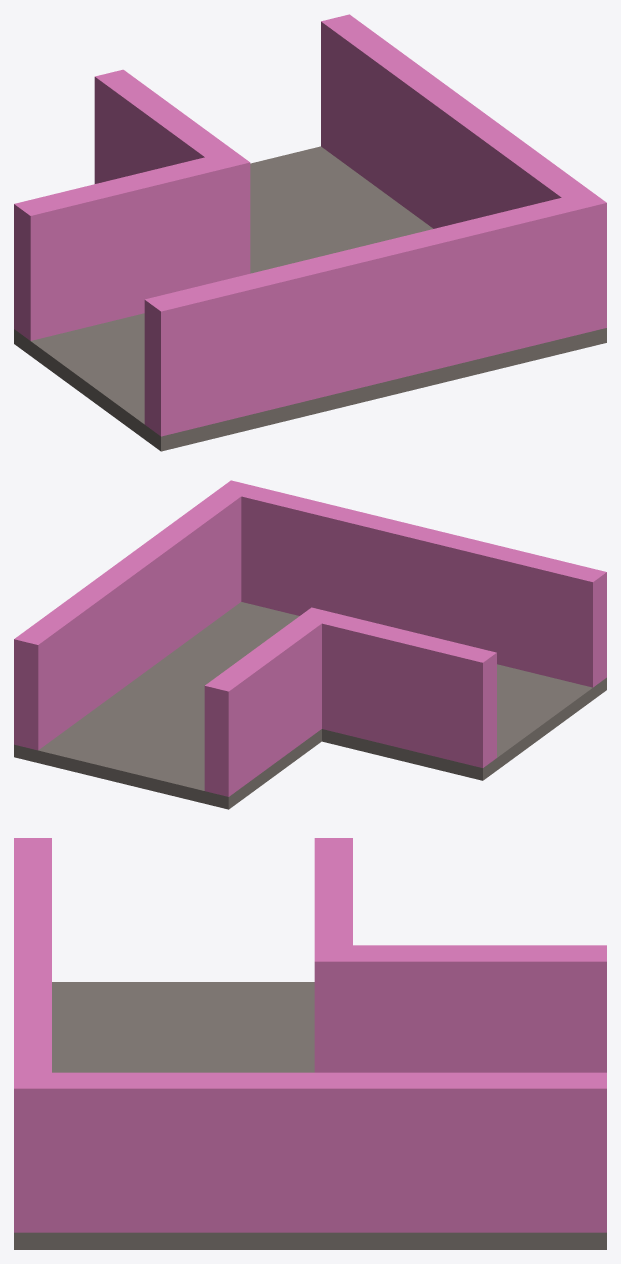
Rendered from L_way.fbx.
3 views of the same model, one above another, from view 1: azimuth 30°, elevation 25°; view 2: azimuth 150°, elevation 25°; view 3: azimuth 270°, elevation 25° (orthographic). The views are drawn at different scales.
Parts seen in each view (by area): view 1: L_Way; view 2: L_Way; view 3: L_Way.
Part boxes in pixels (<box>): L_Way: <box>14,14,606,451</box>; L_Way: <box>14,480,606,809</box>; L_Way: <box>14,838,606,1249</box>.
Bounding box in the file's own units: 1400 × 420 × 1400.
